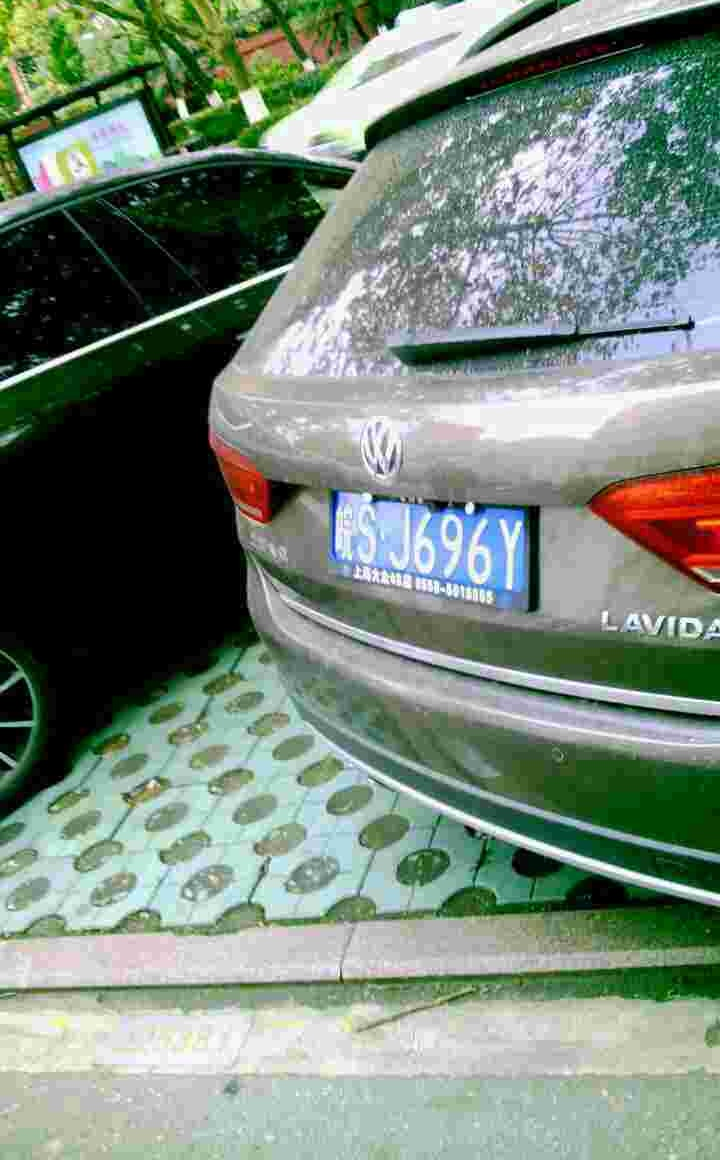license_plate: (326, 490, 532, 603)
